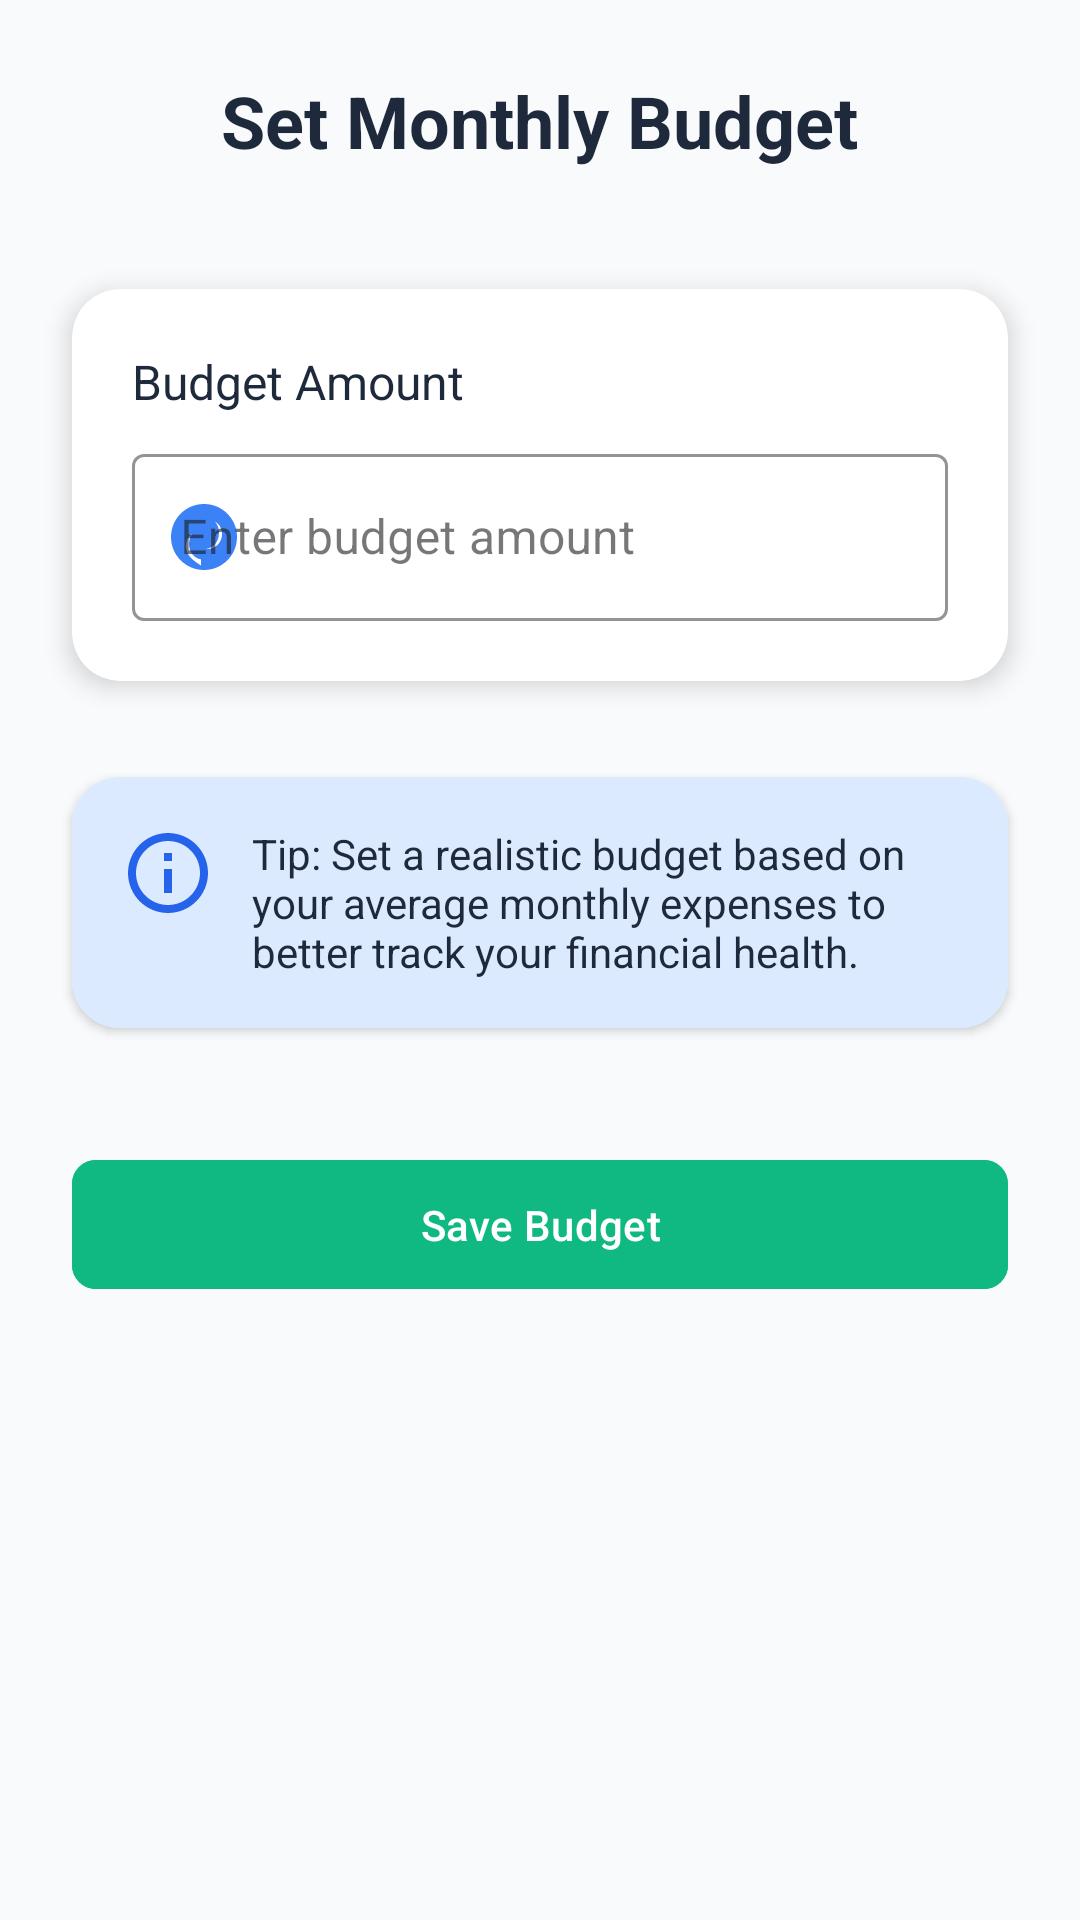

Icon bounding boxes for this 1080x1920 phone screenshot, format (x1, y1, x2, y2):
Info icon: (128, 833, 208, 913)
